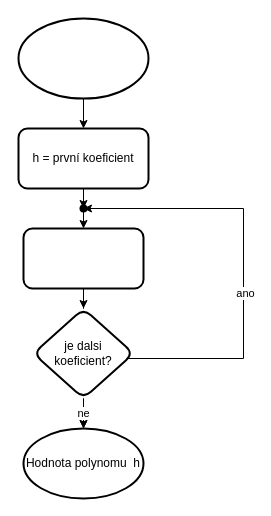
The diagram is 271 pixels wide and 516 high, and some of its shapes have lost their labels. Here are the shapes that lost their labels. From the top down, the centre of each, then its label:
point (83, 58): Hornerovo schema pole koeficientů y hodnota x
point (83, 258): h=h*x - další koeficient
